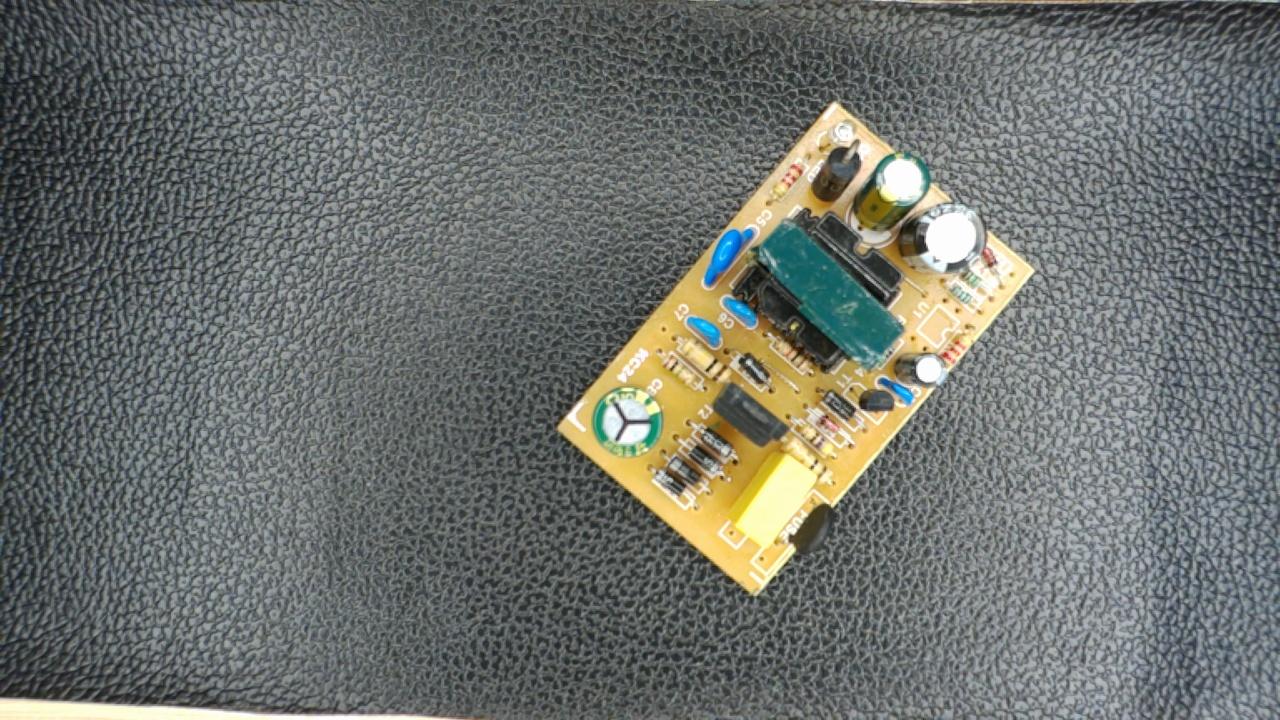fuse: (774, 488, 842, 561)
hv_capacitor: (585, 386, 666, 458)
mov: (696, 224, 761, 287)
